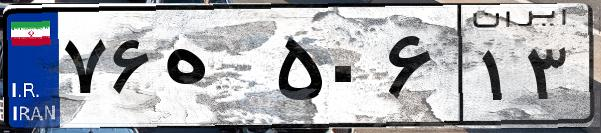0: (330, 28, 385, 110)
1: (475, 38, 525, 113)
3: (525, 38, 570, 115)
5: (270, 28, 330, 110)
6: (385, 28, 445, 110), (110, 28, 158, 98)
7: (57, 26, 110, 100)
ه: (158, 20, 270, 120)
